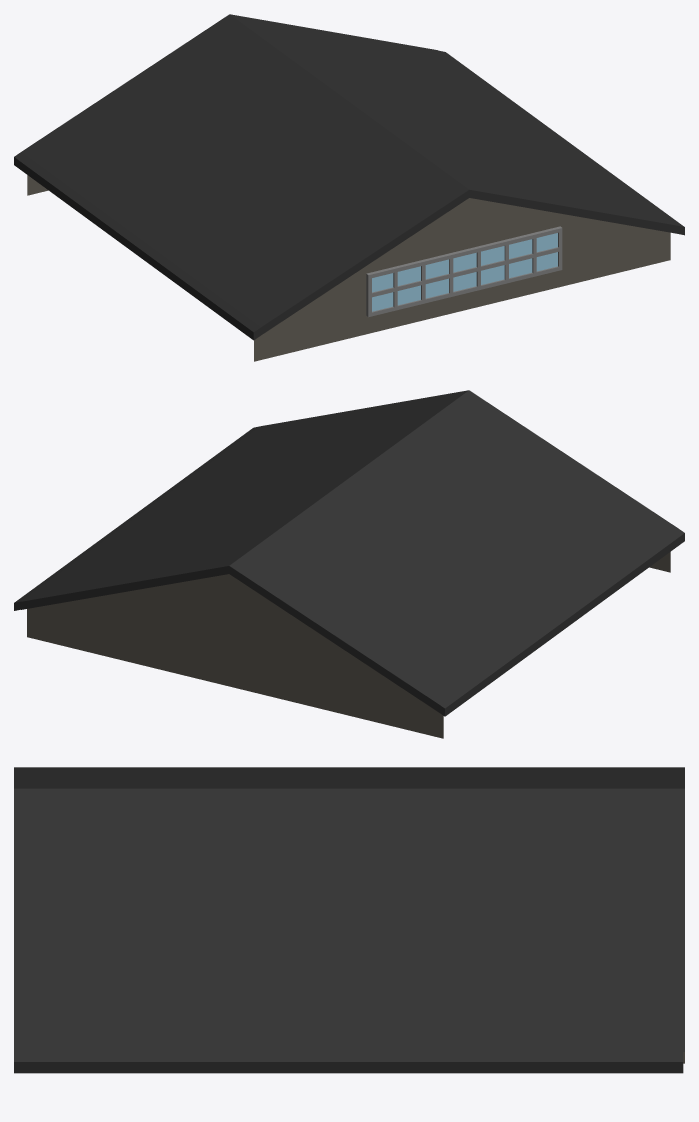
File: roof.fbx
The picture shows the model from 3 angles, top to bottom: view 1: azimuth 30°, elevation 25°; view 2: azimuth 150°, elevation 25°; view 3: azimuth 270°, elevation 25°; orthographic projection. The views are drawn at different scales.
Visible parts, largest first — view 1: Cube.183; view 2: Cube.183; view 3: Cube.183.
Part boxes in pixels (left/top/right/bottom): Cube.183: left=14, top=14, right=684, bottom=361; Cube.183: left=14, top=390, right=684, bottom=738; Cube.183: left=14, top=767, right=684, bottom=1073.
Size of the model in its own units: 3091 by 866 by 2977.
